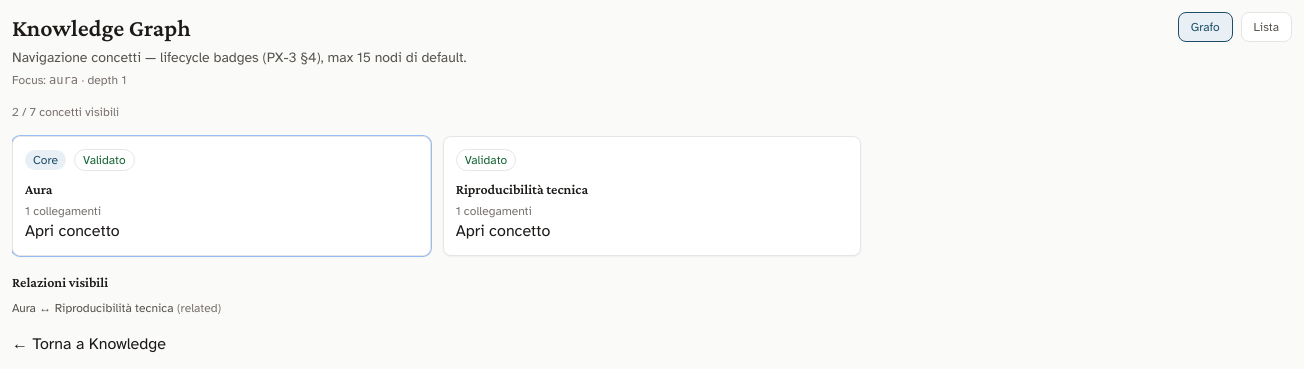
it: KnowledgeGraphPanel › switches to list view
Click the button "Lista" at (1266, 27), box left=1241, top=12, right=1292, bottom=42
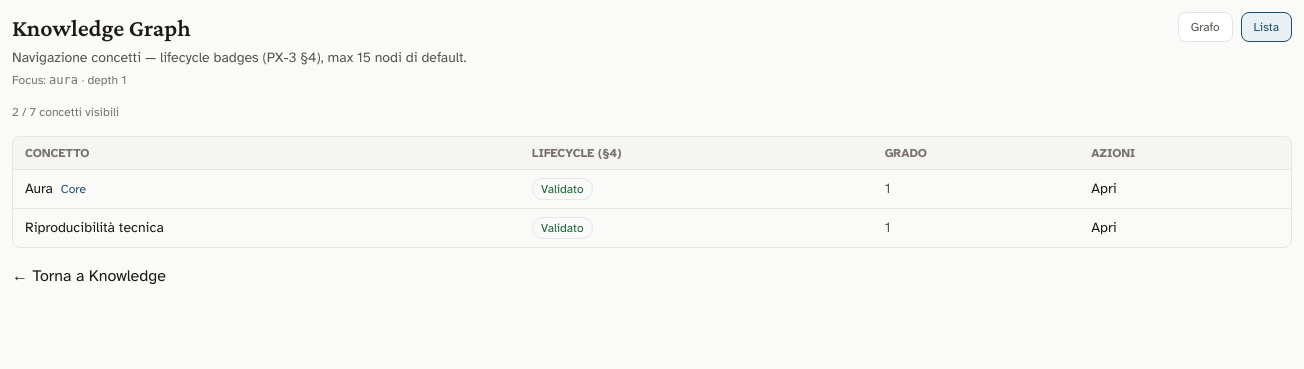
Now the table with test id "graph-list-view" is shown, box left=13, top=137, right=1291, bottom=247
